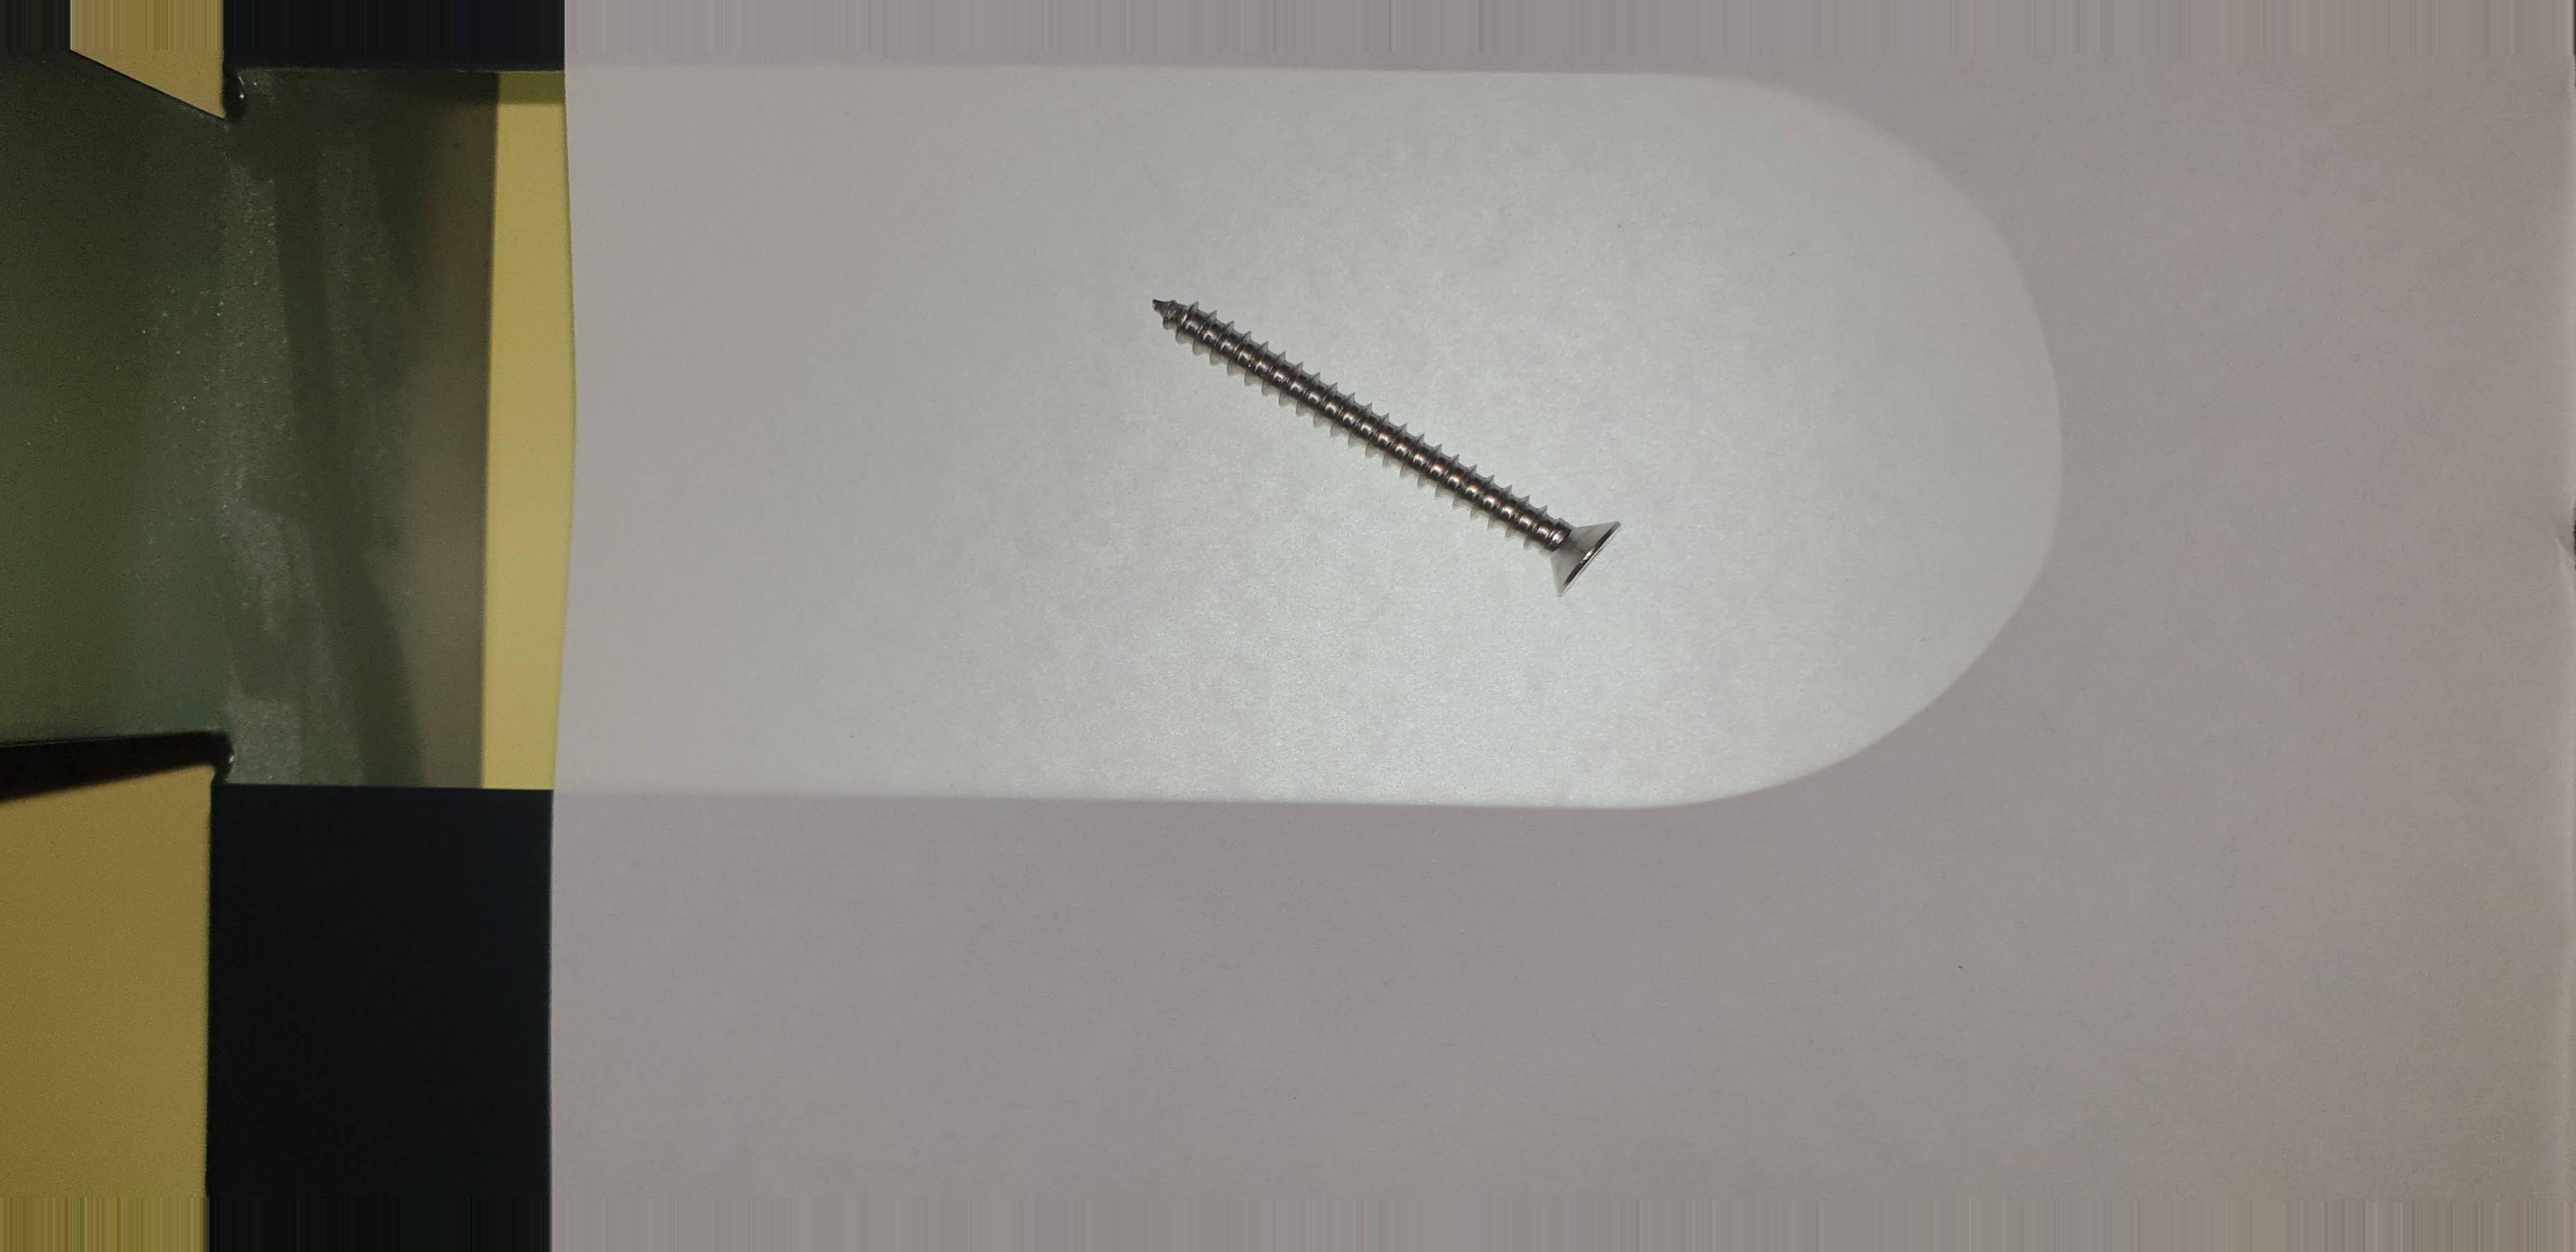fastener: (1027, 205, 1799, 690)
